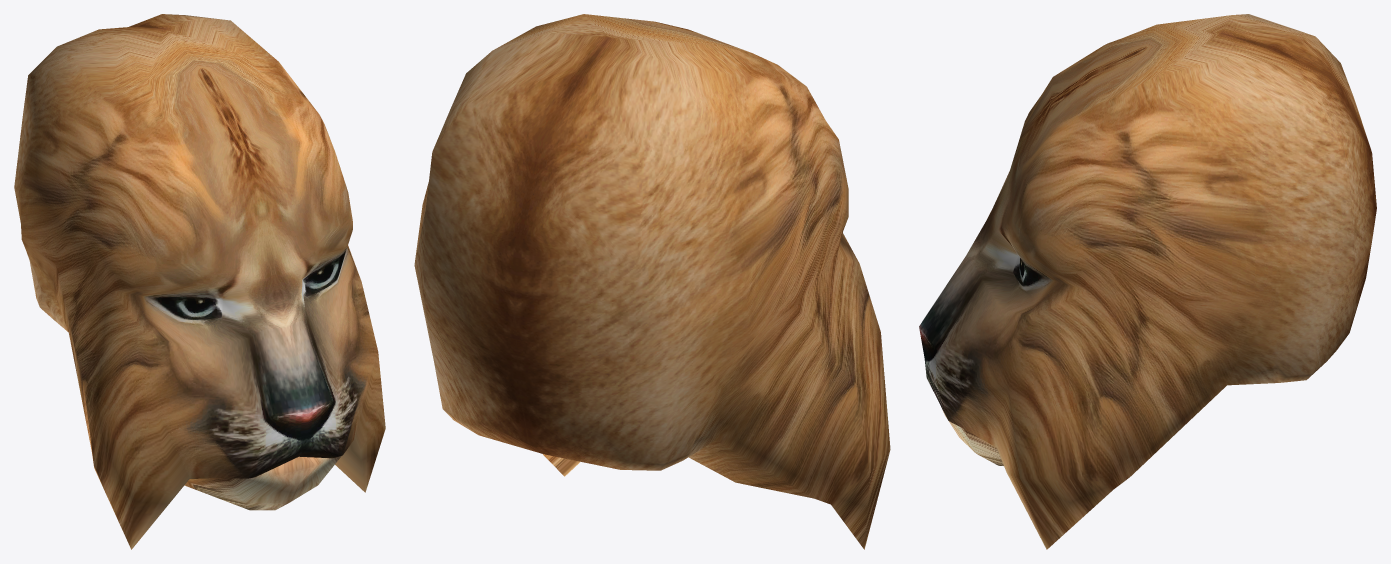
File: b_n_khajiit_m_head_01.glb
The picture shows the model from 3 angles, left to right: view 1: azimuth 30°, elevation 25°; view 2: azimuth 150°, elevation 25°; view 3: azimuth 270°, elevation 25°; orthographic projection. The views are drawn at different scales.
Visible parts, largest first — view 1: Tri B_N_Khajiit_M_Head_01; view 2: Tri B_N_Khajiit_M_Head_01; view 3: Tri B_N_Khajiit_M_Head_01.
Part boxes in pixels (box(x1,y1,x2,y2)): Tri B_N_Khajiit_M_Head_01: box(14, 14, 385, 549); Tri B_N_Khajiit_M_Head_01: box(414, 14, 890, 549); Tri B_N_Khajiit_M_Head_01: box(919, 14, 1376, 549).
Bounding box in the file's own units: 0.1064 × 0.1593 × 0.1449.
1 material, 1 textured.
